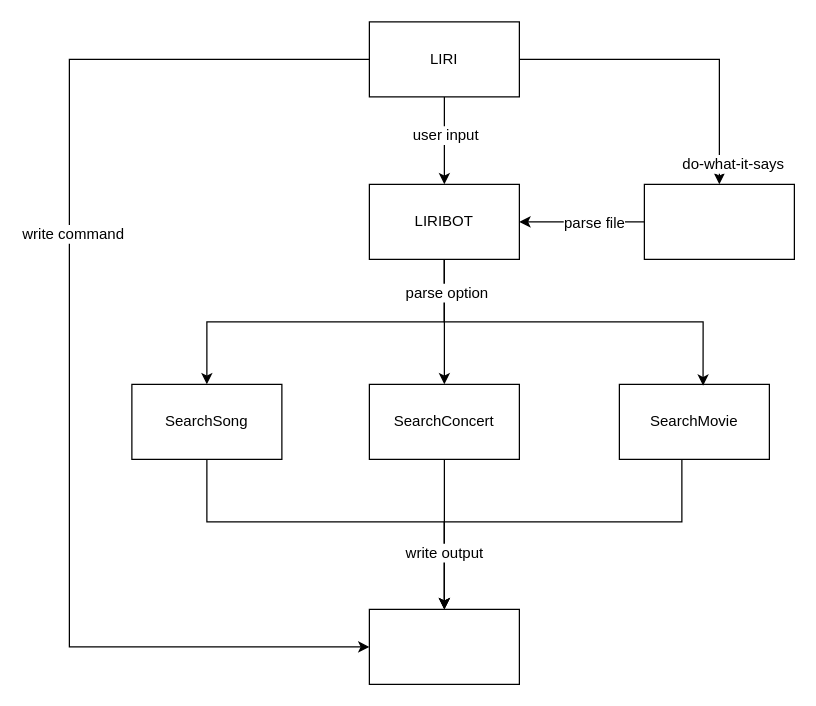
Some shapes in this 816 by 706 pixel diagram are drawn without their labels. The centre of each missing label's shape, as x and y in pixels:
"searchRandom" belongs at (718,221).
"WriteToLog" belongs at (443,646).
